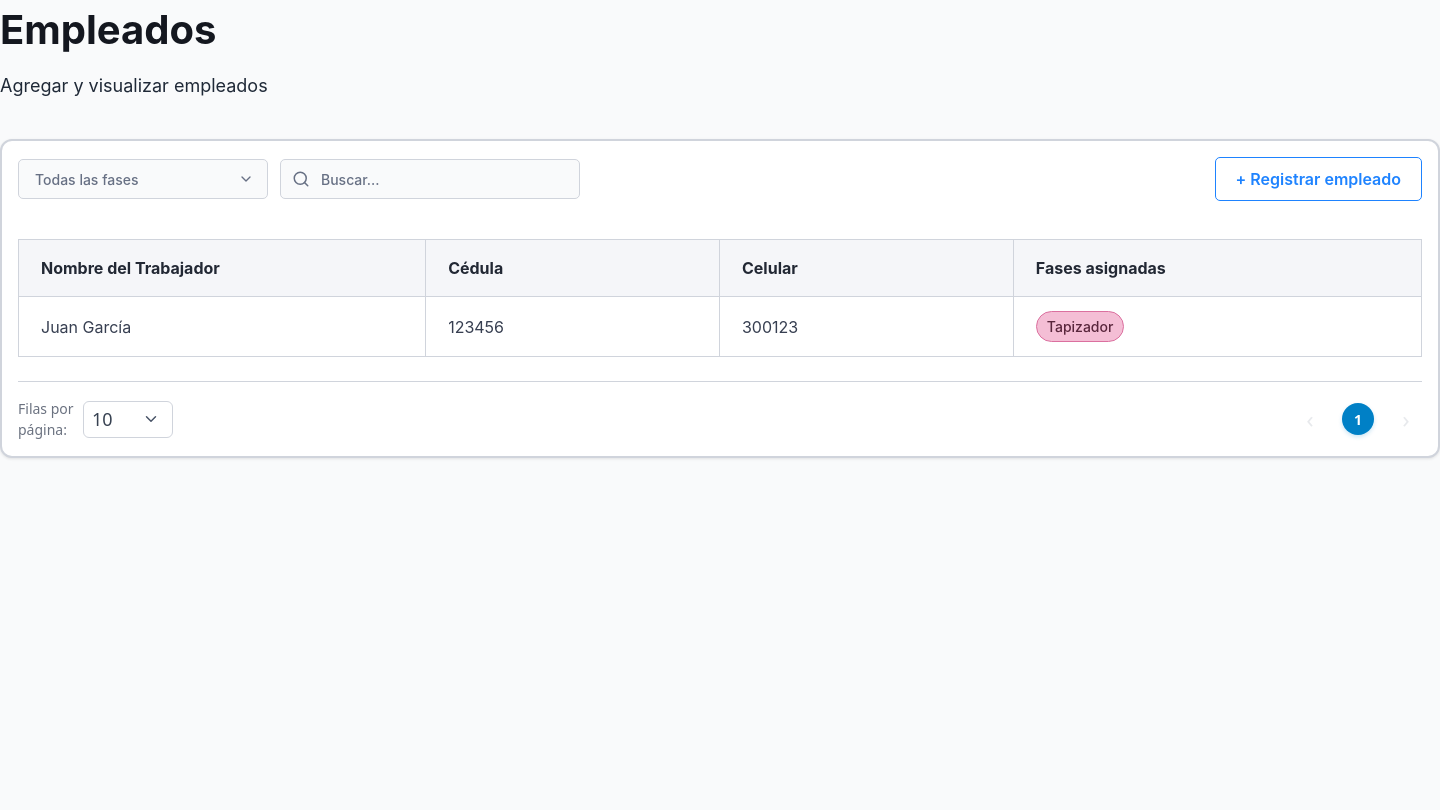
Test: REGRESION - Empleados › CP6: debe abrir drawer al hacer click en empleado
The width and height of the screenshot is (1440, 810).
Click the text "Juan García" at (720, 327), box [18, 297, 1422, 357]
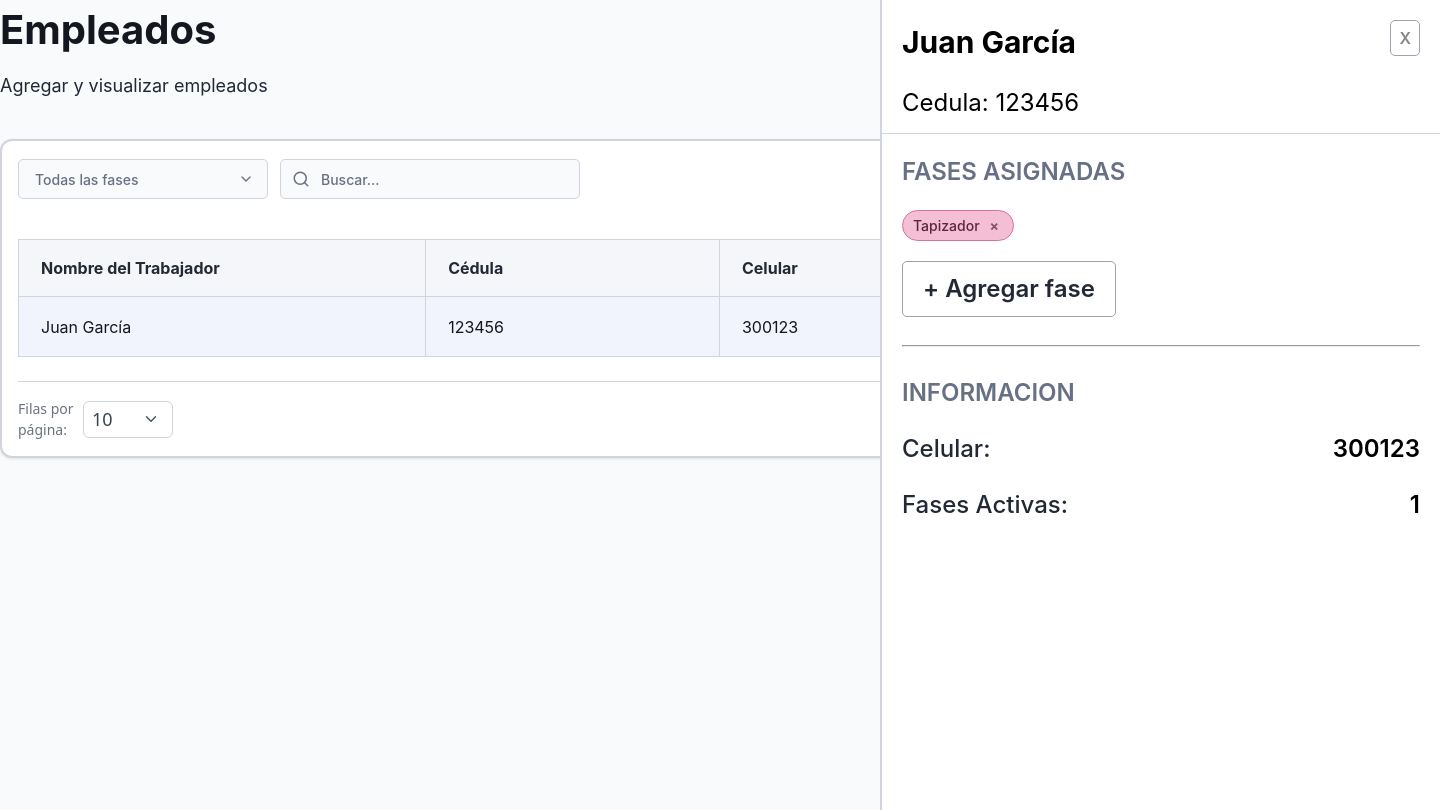
Expected: the dialog is shown, [880, 0, 1439, 809]
Expected: the heading "FASES ASIGNADAS" is shown, [902, 157, 1125, 186]
